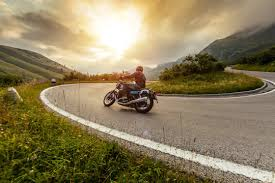motorcycle: (100, 79, 156, 108)
